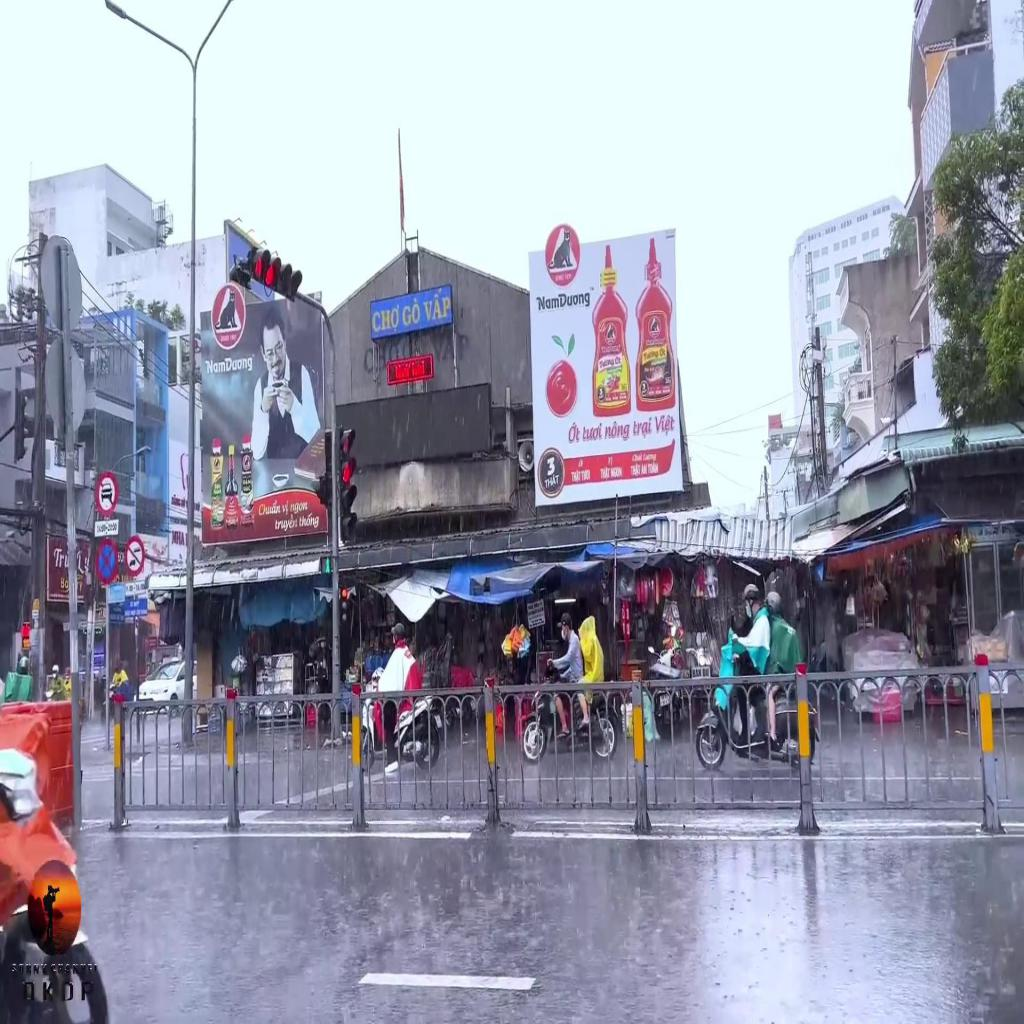cam_dung_xe_va_do_xe: (96, 539, 118, 584)
cam_o_to: (96, 472, 118, 517)
cam_o_to_tai_va_xe_khach: (124, 536, 144, 574)
khac: (95, 518, 119, 536), (125, 580, 146, 596)
